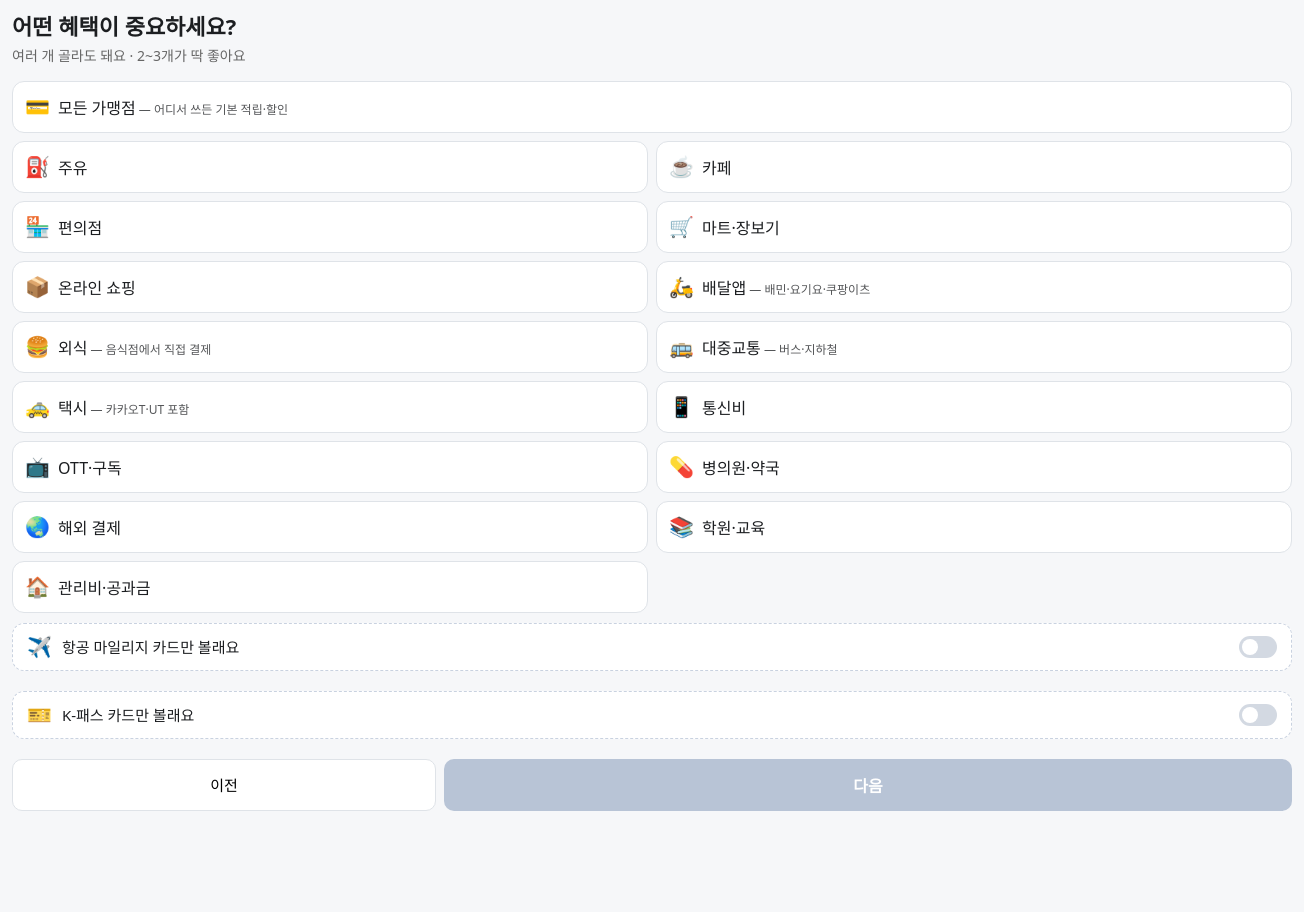
K-패스 스위치 › 켜면 대중교통이 자동 선택·잠김, 안내가 뜨고, 다른 혜택은 더 고를 수 있다
Click the button "🎫 K-패스 카드만 볼래요".
click(128, 715)  # box [12,691,1292,739]
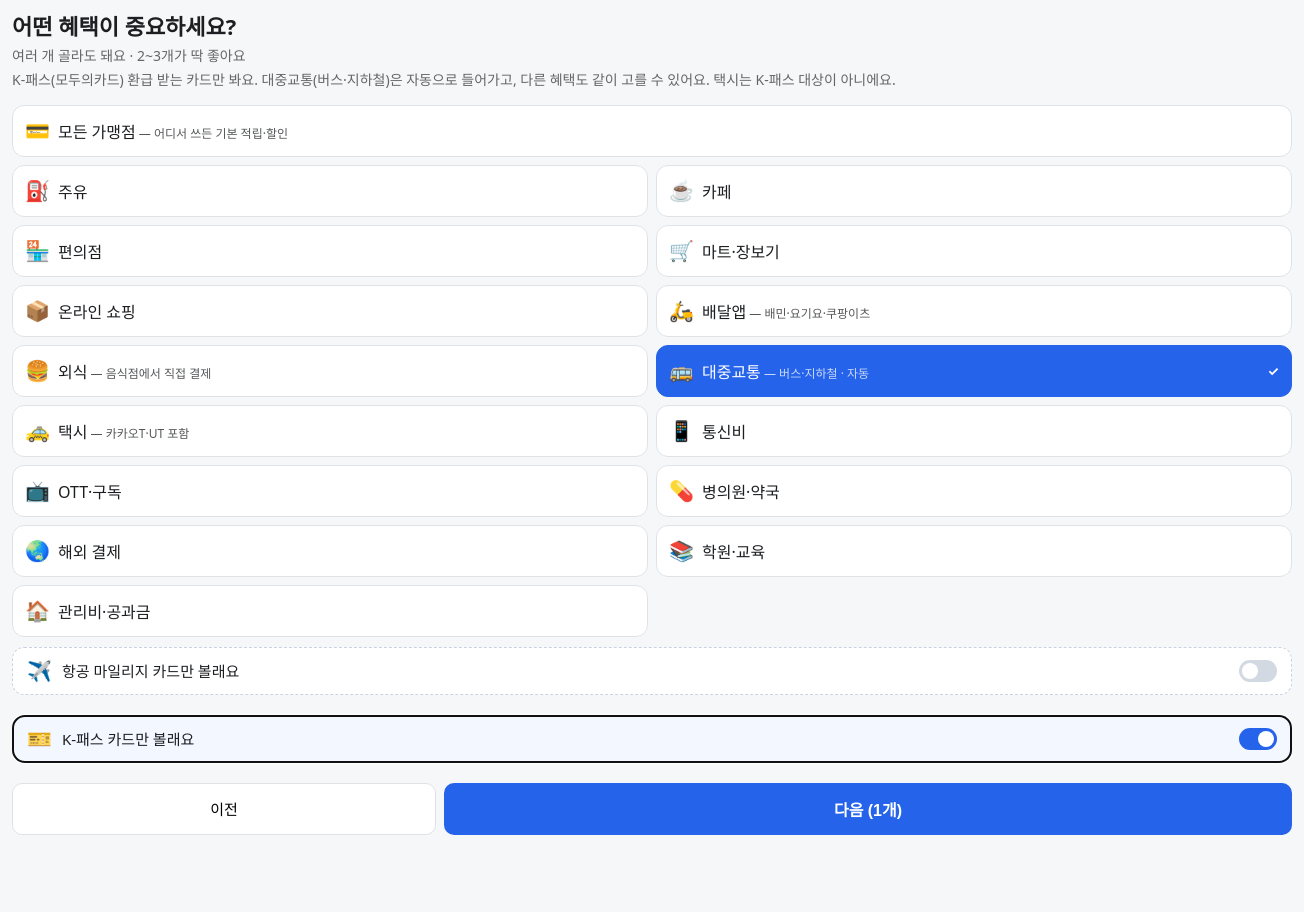
Check: the button "🚌 대중교통 — 버스·지하철 · 자동 ✓" is disabled, box [656,345,1292,397]
Check: the text "K-패스(모두의카드) 환급 받는 카드만 봐요. 대중교통(버스·지하철)은 자동으로 들어가고, 다른 혜택도 같이 고를 수 있어요. 택시는 K-패스 대상이 아니에요." is shown, box [12,70,896,89]
Click the button "☕ 카페".
click(681, 190)  # box [656,165,1292,217]
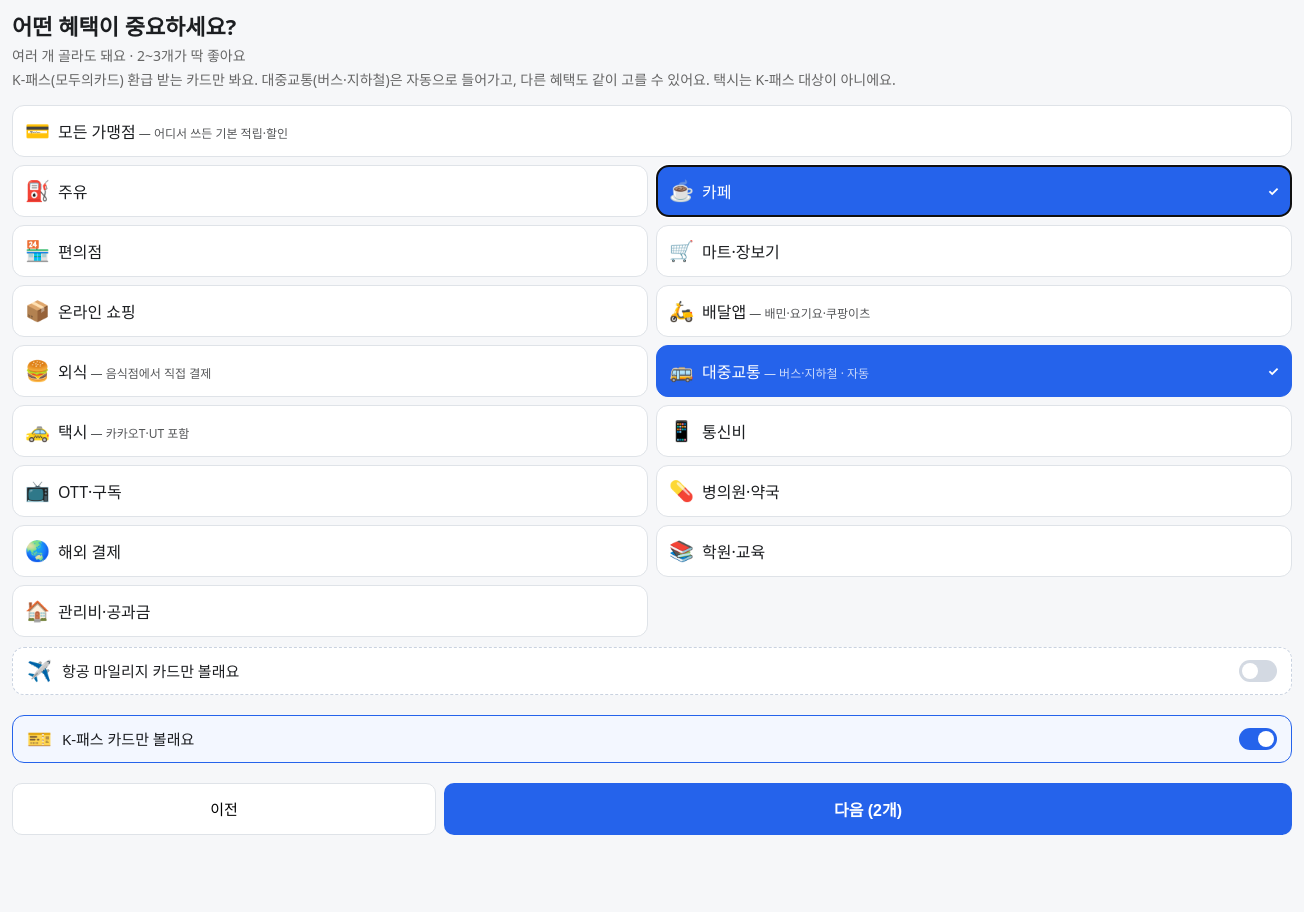
Check: the button "다음 (2개)" is shown, box [444,783,1292,835]
